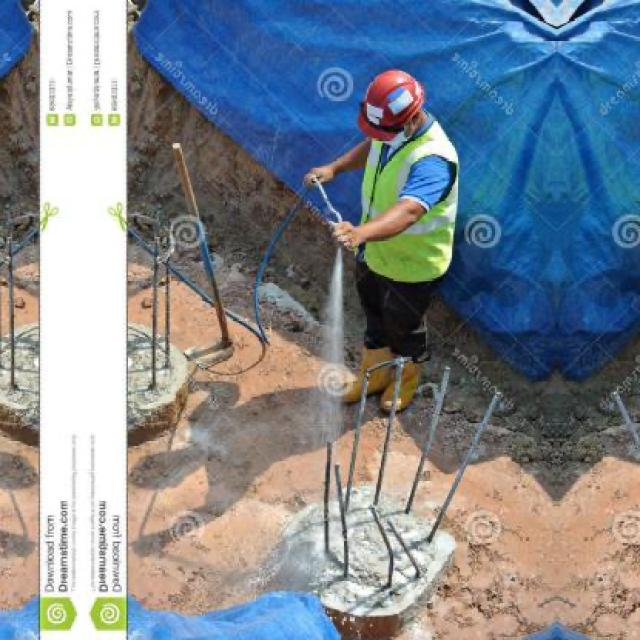con casco: (348, 56, 451, 182)
